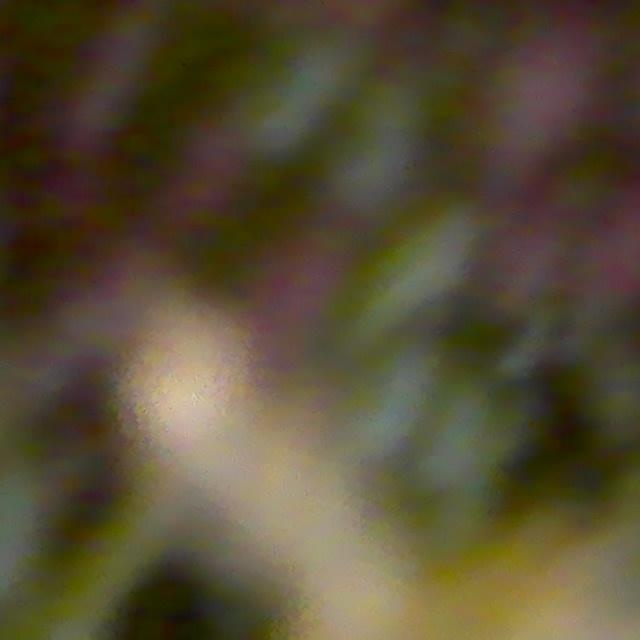SeaGrape: (444, 0, 583, 167)
